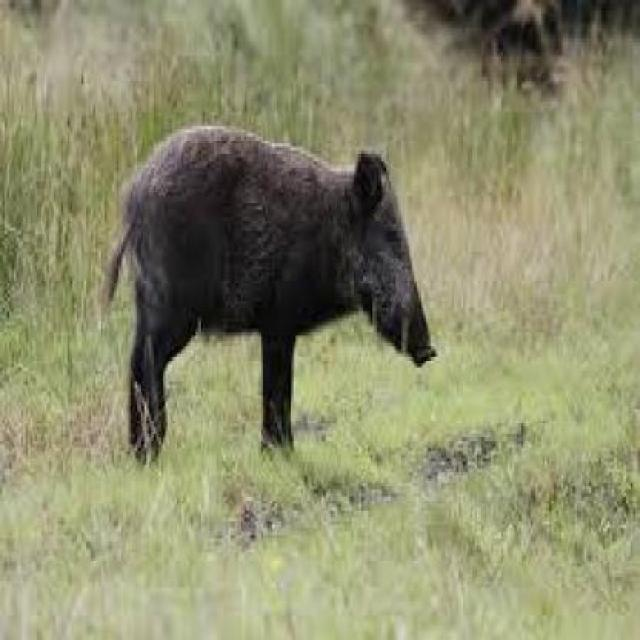wildboar: (101, 119, 442, 466)
